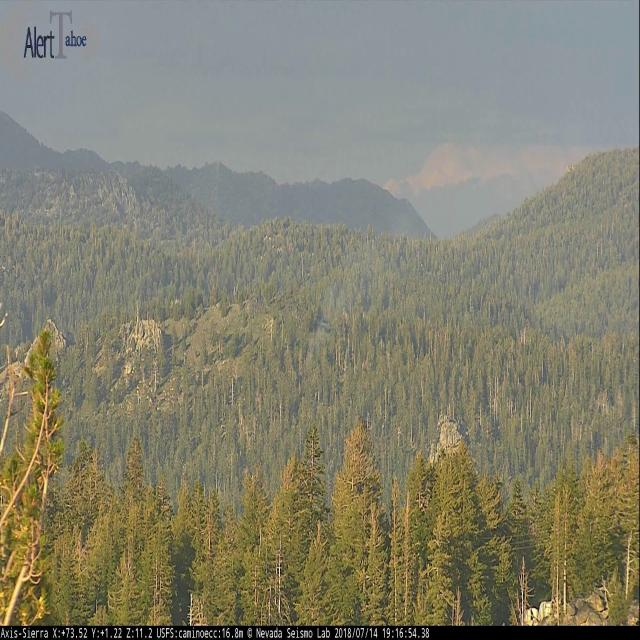smoke: (312, 235, 409, 350)
